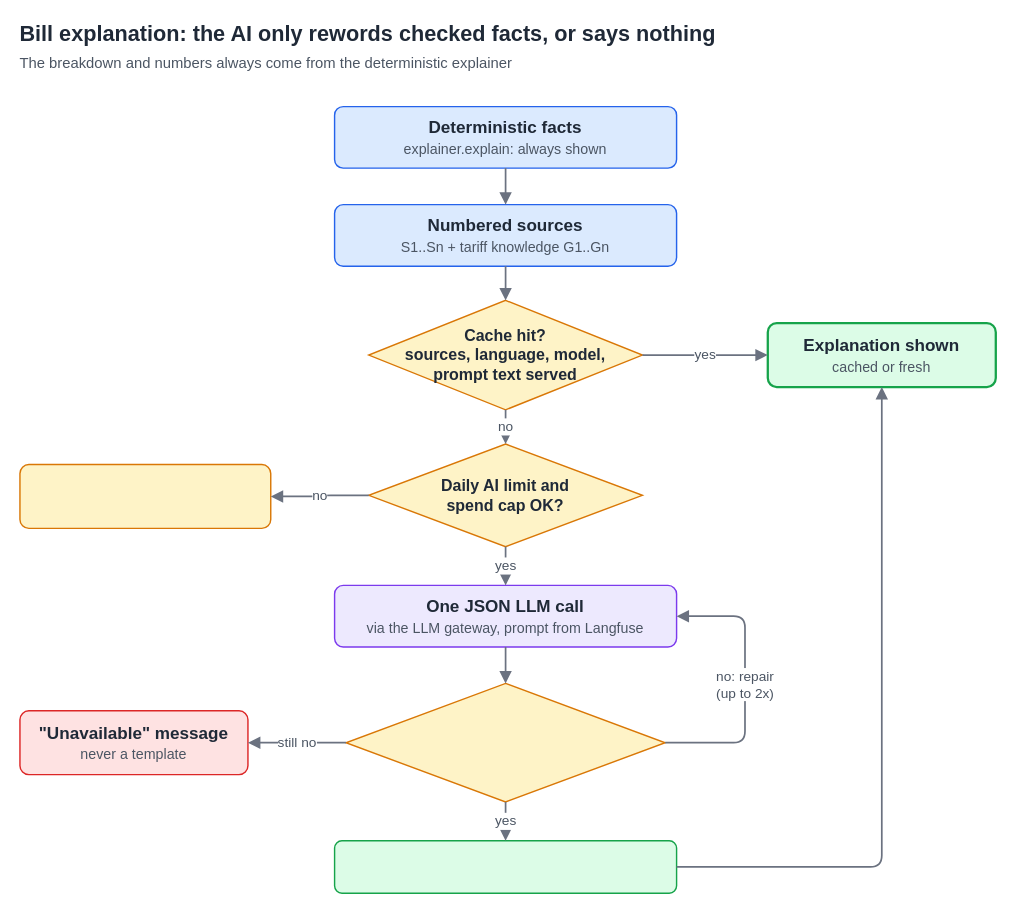
This 1020x913 diagram has some shape labels left out. The centre of each missing label's shape, as x and y in pixels:
BUDGET breakdown still shown: the point at 145,496
Cache 30 days: the point at 505,866
Every item cites sources and every number is in them?: the point at 505,742
